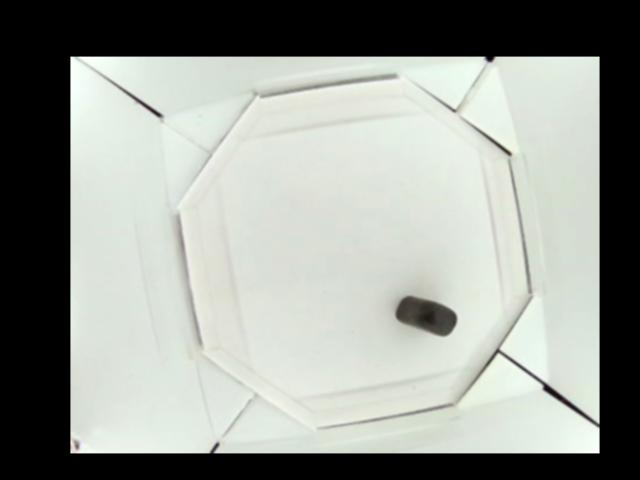Pebble: (397, 294, 457, 339)
